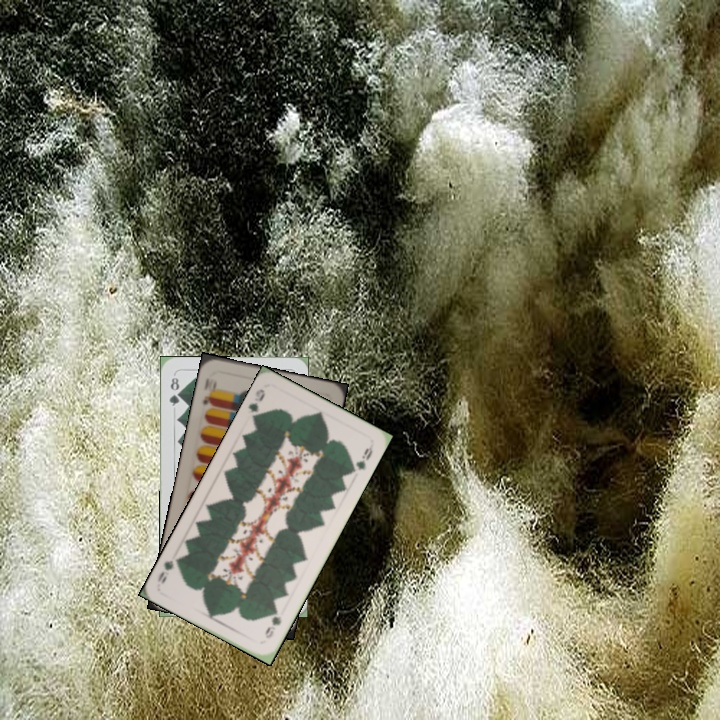E10: (199, 374, 219, 408)
G8: (165, 373, 183, 408)
G9: (244, 385, 268, 424), (261, 605, 284, 641)
